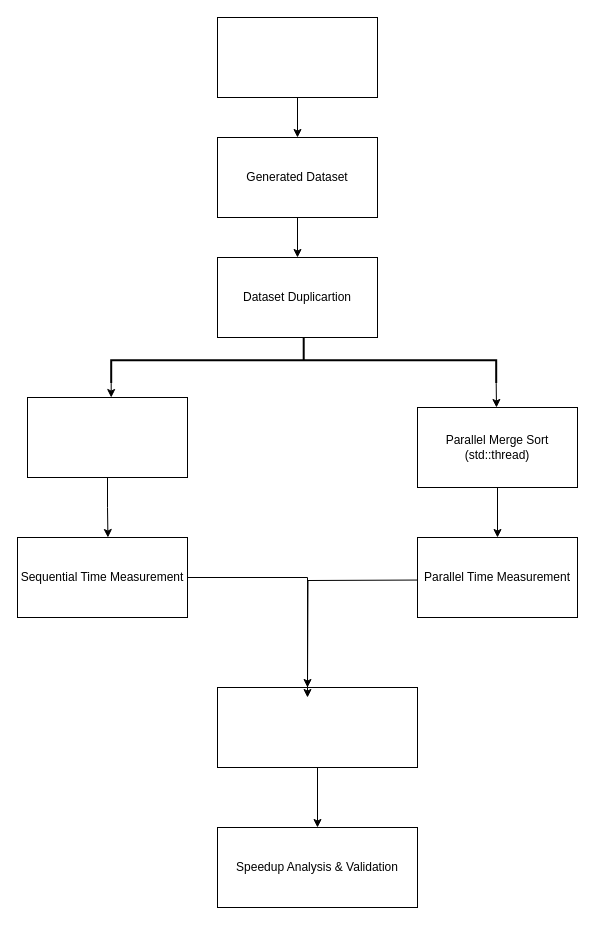
Image size: 595x925. Some labels were removed from this diagram. The centre of each missing label's shape, as x and y in pixels:
Performance Comparison: (x=317, y=727)
Random Dataset Generator: (x=297, y=57)
Sequential Merge Sort: (x=107, y=437)
